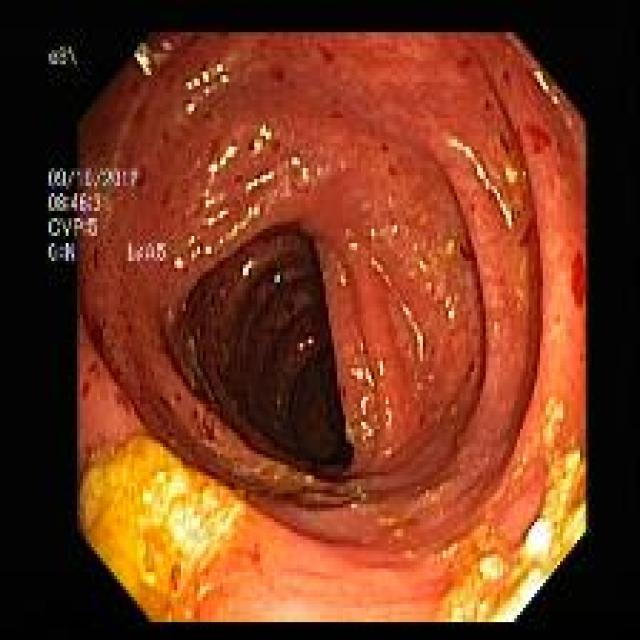ulcerative-colitis: (58, 33, 586, 622)
